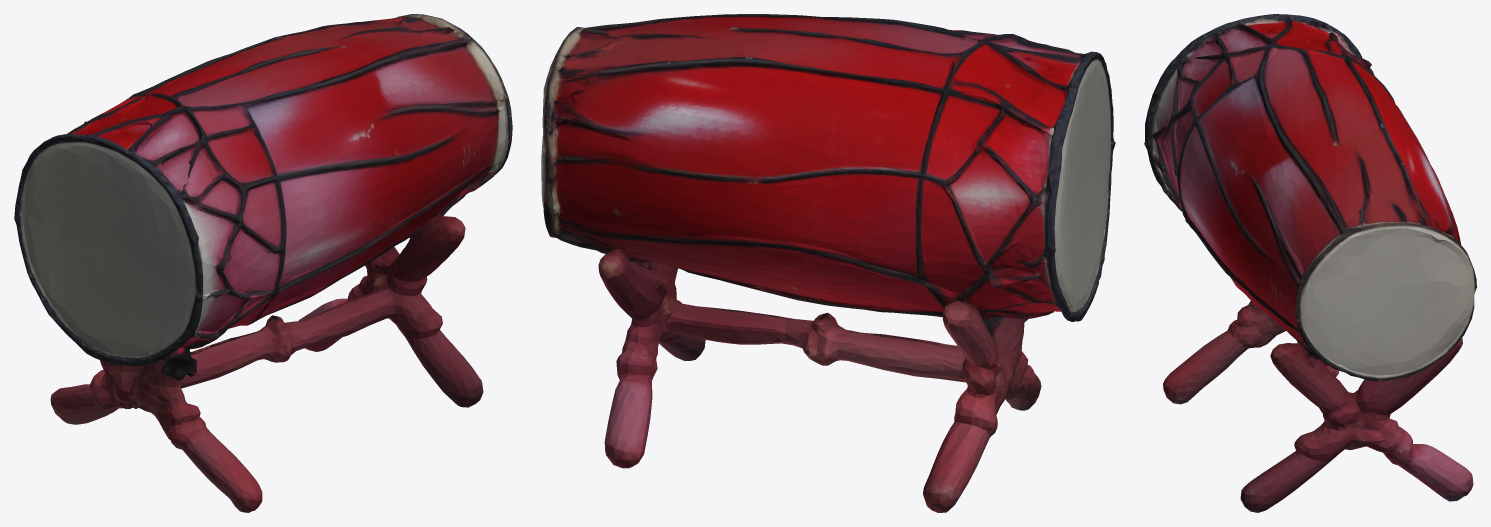
Rendered from jawa-timur.glb.
The picture shows the model from 3 angles, left to right: view 1: azimuth 30°, elevation 25°; view 2: azimuth 150°, elevation 25°; view 3: azimuth 270°, elevation 25°; orthographic projection. The views are drawn at different scales.
Visible parts, largest first — view 1: world; view 2: world; view 3: world.
Boxes of the visible parts, box(x1,y1,x2,y2) form: world: box(14, 14, 512, 512); world: box(541, 14, 1115, 512); world: box(1144, 14, 1476, 512).
Bounding box in the file's own units: 0.5492 × 0.4266 × 0.365.
1 material, 1 textured.
